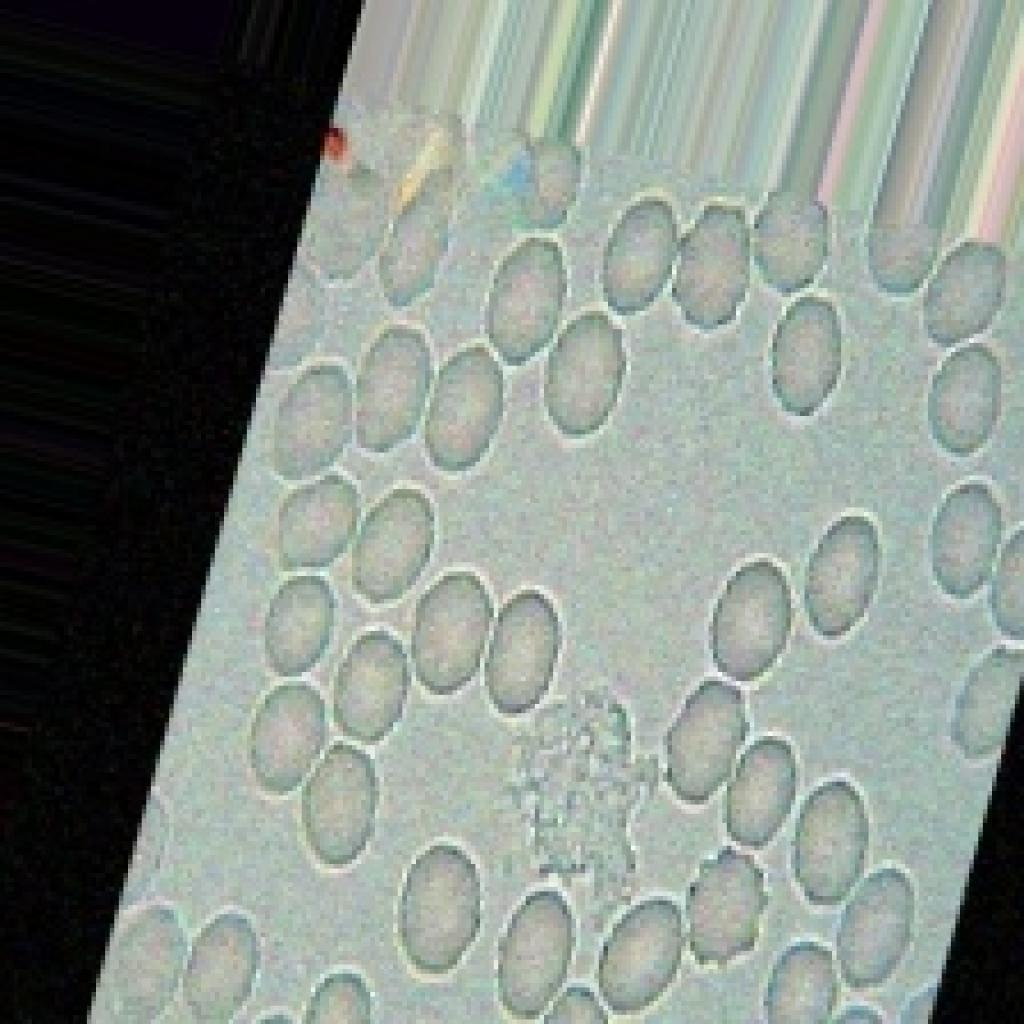Sphericalbacteria: (55, 92, 1019, 1020)
